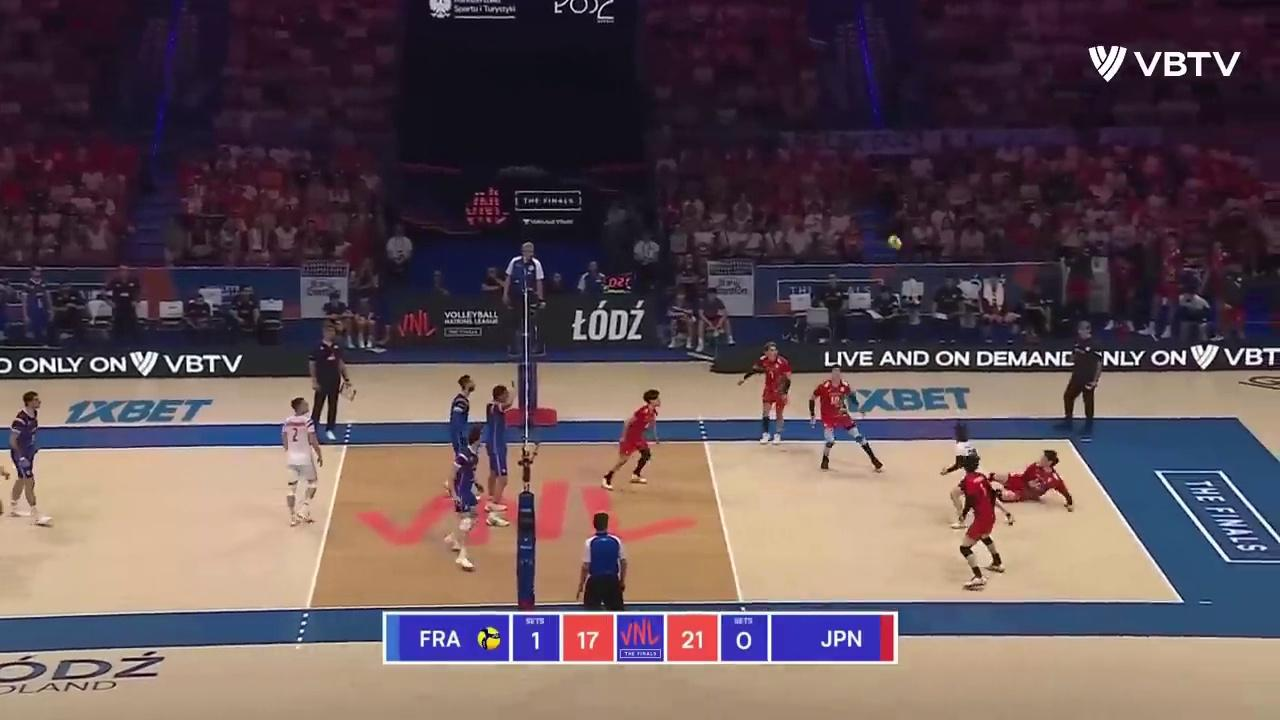ball: (890, 236, 902, 249)
